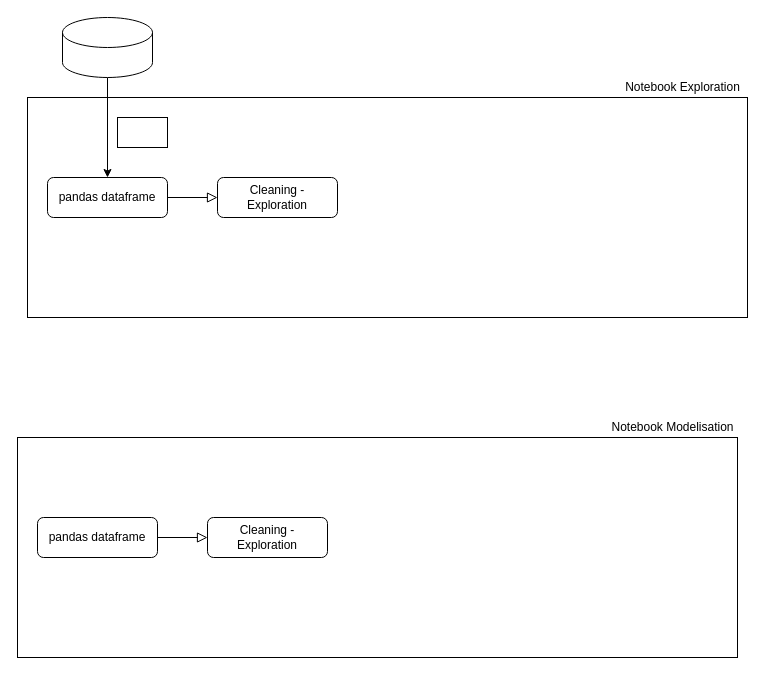
This 765x675 diagram has some shape labels left out. Each missing label, with the box of its shape:
.csv: (116, 116, 168, 148)
Stackoverflow: (62, 16, 152, 78)
